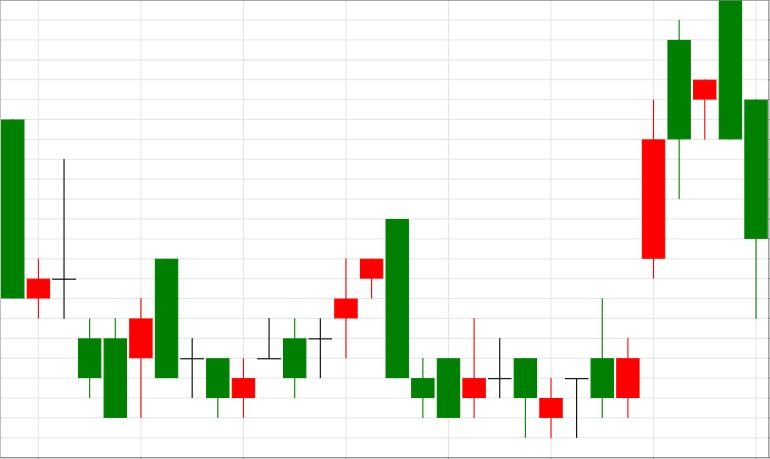shooting_star_fall: (284, 219, 409, 397)
